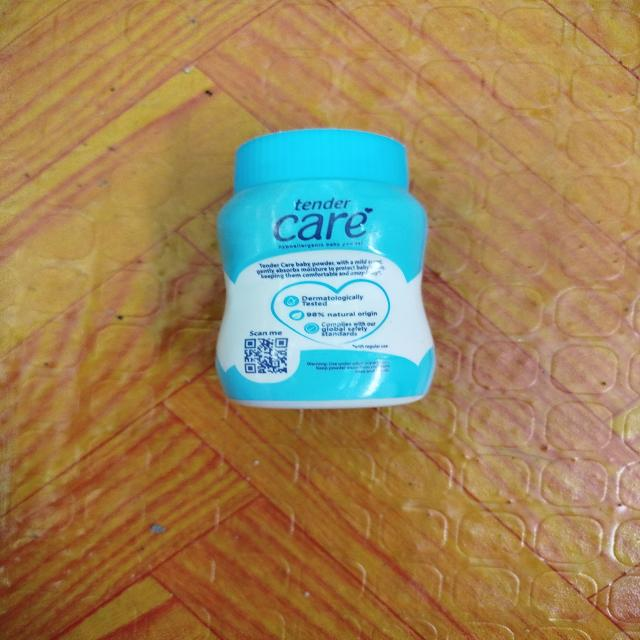plastic: (194, 115, 475, 439)
